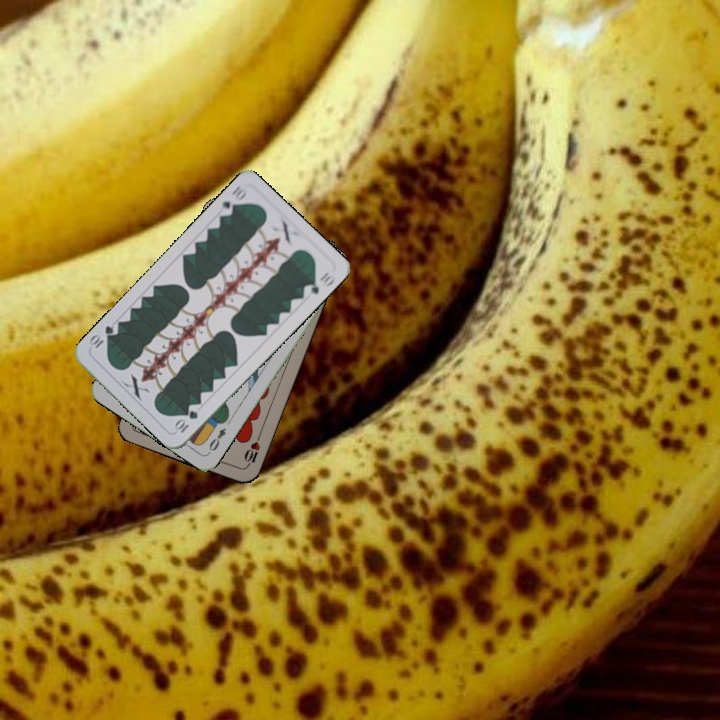EO: (204, 424, 228, 456)
G10: (217, 181, 251, 219), (170, 406, 201, 435)
H10: (240, 431, 263, 470)
